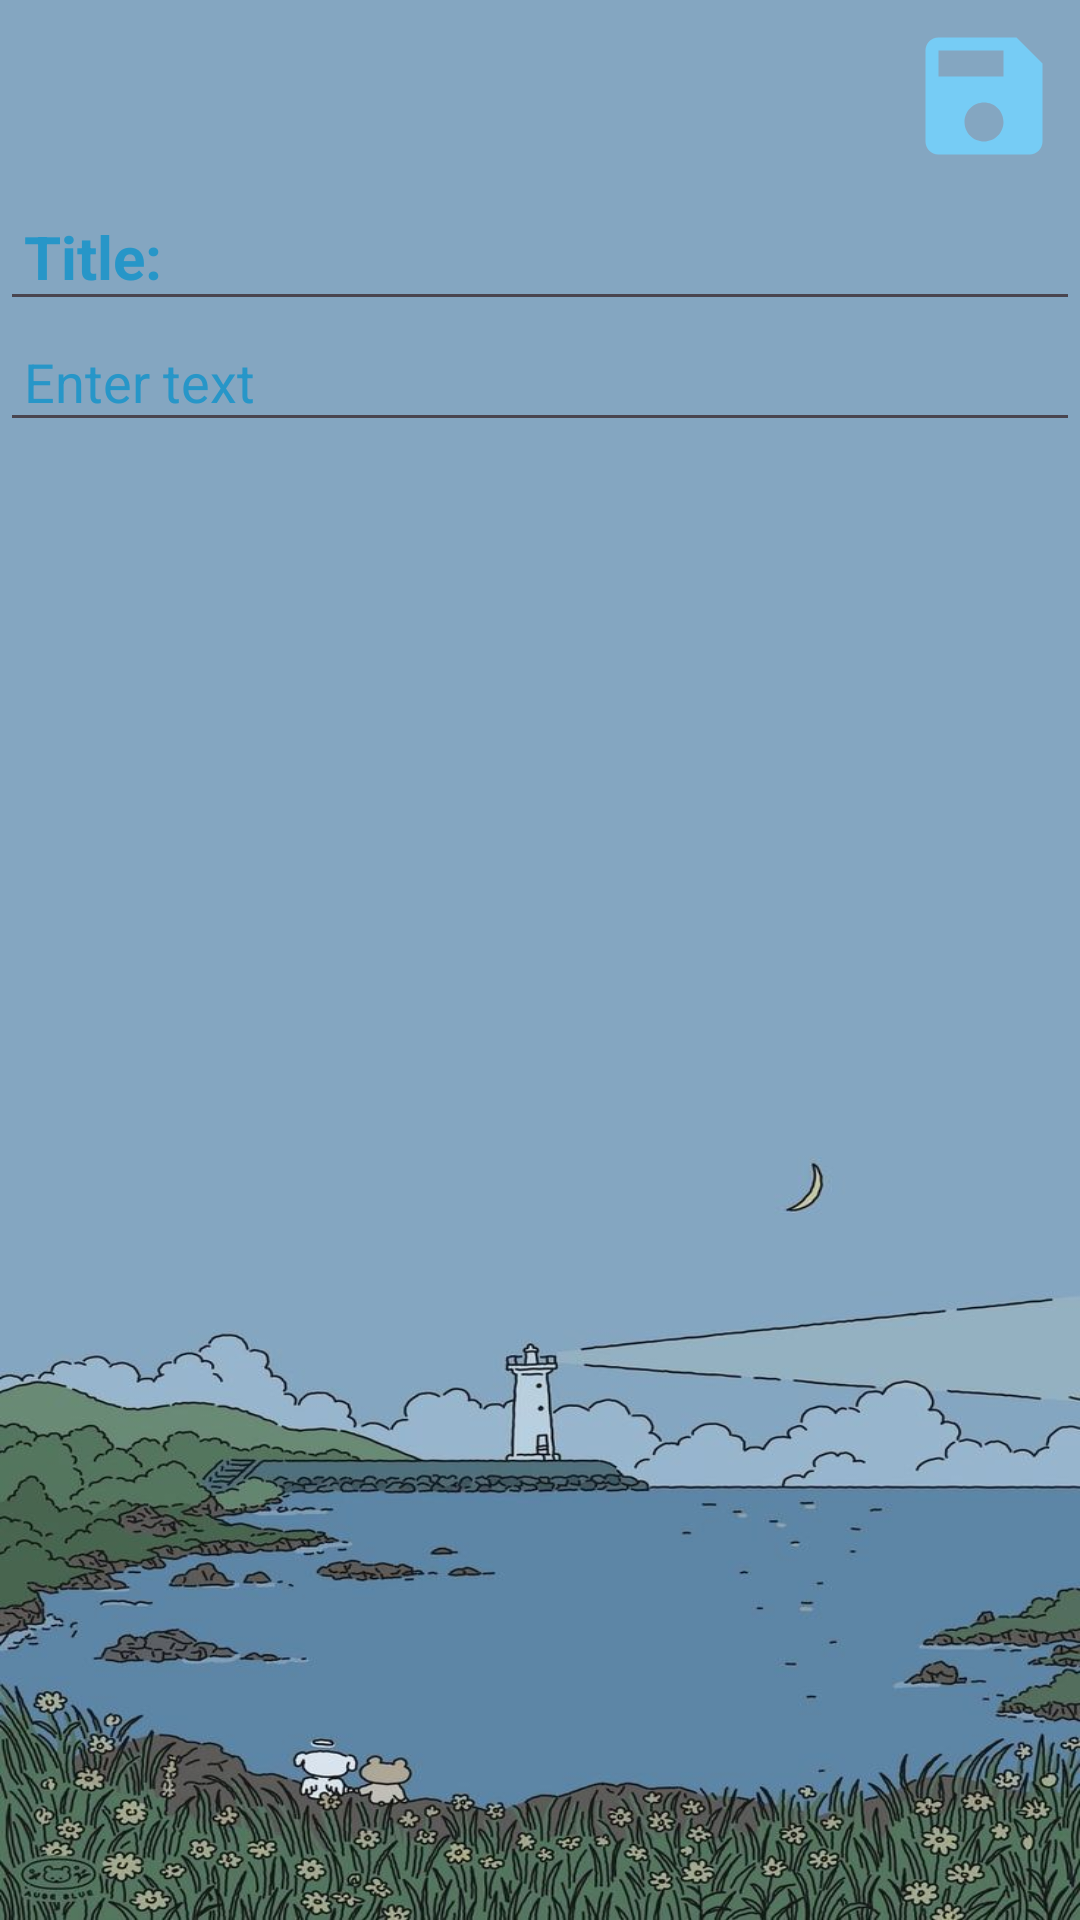

Where to tap for icons on this 1080 x 1920 app screen, as [x,y]:
save: [984,96]
